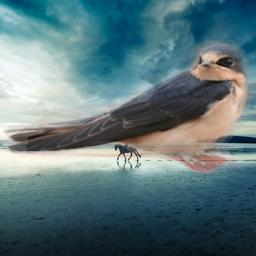Swallow: (3, 39, 250, 174)
